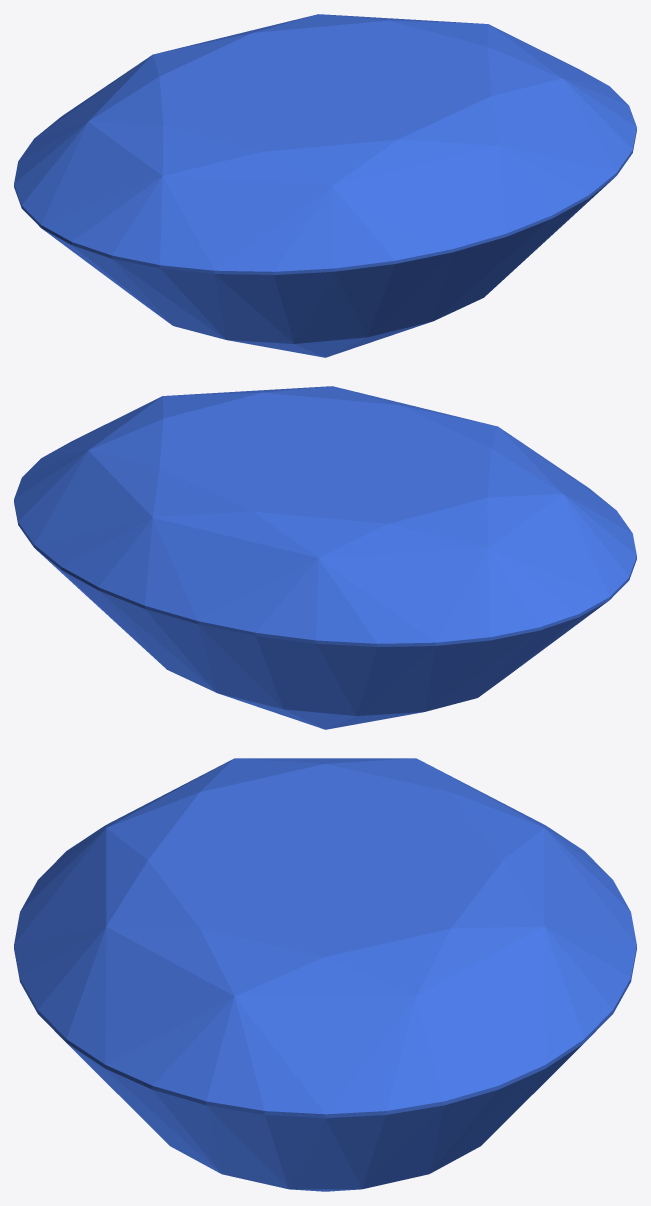
File: jewelry.glb
3 views of the same model, one above another, from view 1: azimuth 30°, elevation 25°; view 2: azimuth 150°, elevation 25°; view 3: azimuth 270°, elevation 25° (orthographic). The views are drawn at different scales.
Visible parts, largest first — view 1: Gemstone Sapphire; view 2: Gemstone Sapphire; view 3: Gemstone Sapphire.
Part boxes in pixels (x1,y1,x2,y2): Gemstone Sapphire: (14,14,636,357); Gemstone Sapphire: (14,386,636,729); Gemstone Sapphire: (14,758,636,1191).
Size of the model in its own units: 2.2 by 1 by 1.71.
